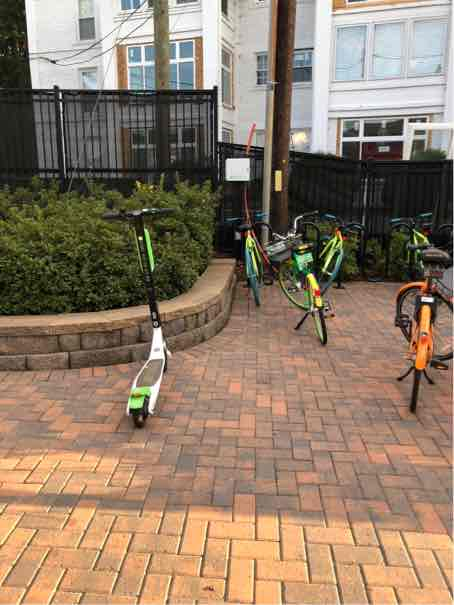scooter: (96, 191, 182, 431)
